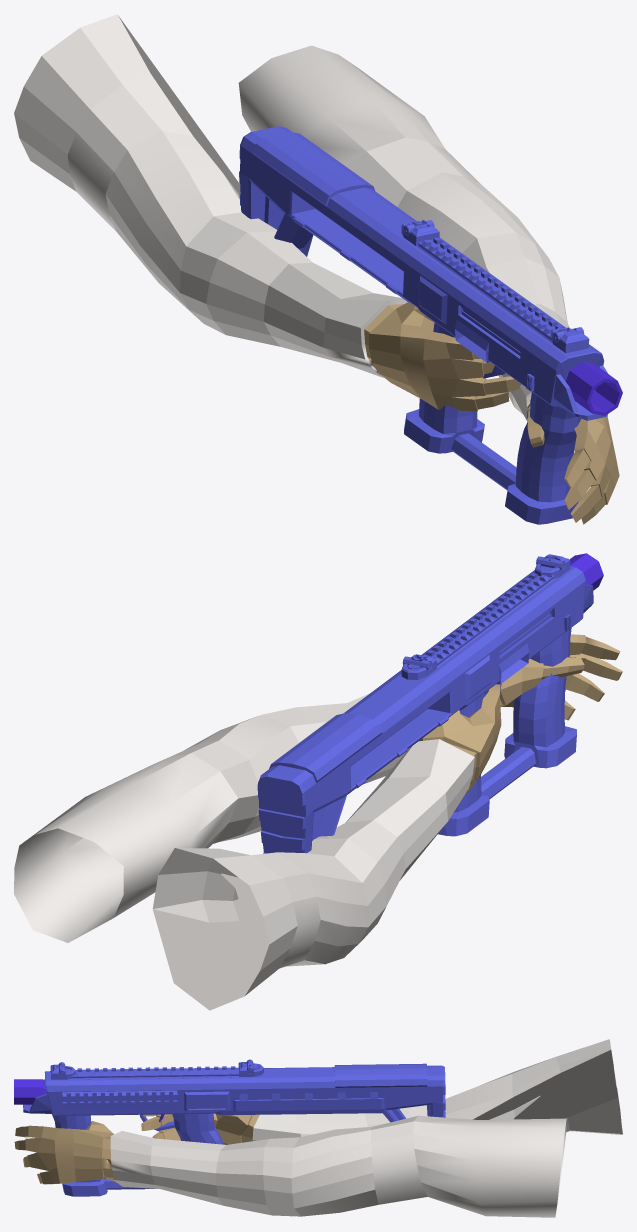
Rendered from maos_com_rifle.fbx.
3 renders of one model, top to bottom at view 1: azimuth 30°, elevation 25°; view 2: azimuth 150°, elevation 25°; view 3: azimuth 270°, elevation 25°, orthographic. The views are drawn at different scales.
Parts seen in each view (by area): view 1: Arm1, Arm1.001, main, main.001, bullet role; view 2: Arm1, Arm1.001, main, main.001, bullet role; view 3: Arm1.001, main, Arm1, main.001, bullet role.
Part boxes in pixels (x1,y1,x2,y2): Arm1: (14,14,521,411); Arm1.001: (238,45,619,524); main: (239,126,607,420); main.001: (404,322,580,524); bullet role: (565,362,622,415); Arm1: (152,684,501,1010); Arm1.001: (14,634,622,942); main: (257,554,593,853); main.001: (438,629,576,836); bullet role: (570,553,603,590); Arm1.001: (14,1115,567,1217); main: (23,1059,445,1130); Arm1: (141,1039,622,1144); main.001: (52,1113,223,1196); bullet role: (14,1079,46,1104).
Size of the model in its own units: 374 by 229 by 952.
